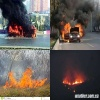fire: (5, 67, 47, 88), (61, 20, 84, 42), (9, 23, 37, 38), (63, 78, 83, 85), (74, 89, 75, 93), (65, 85, 66, 87), (68, 87, 69, 89)
